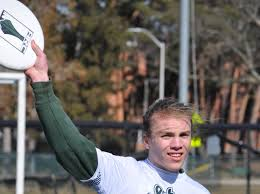disc: (0, 1, 46, 71)
